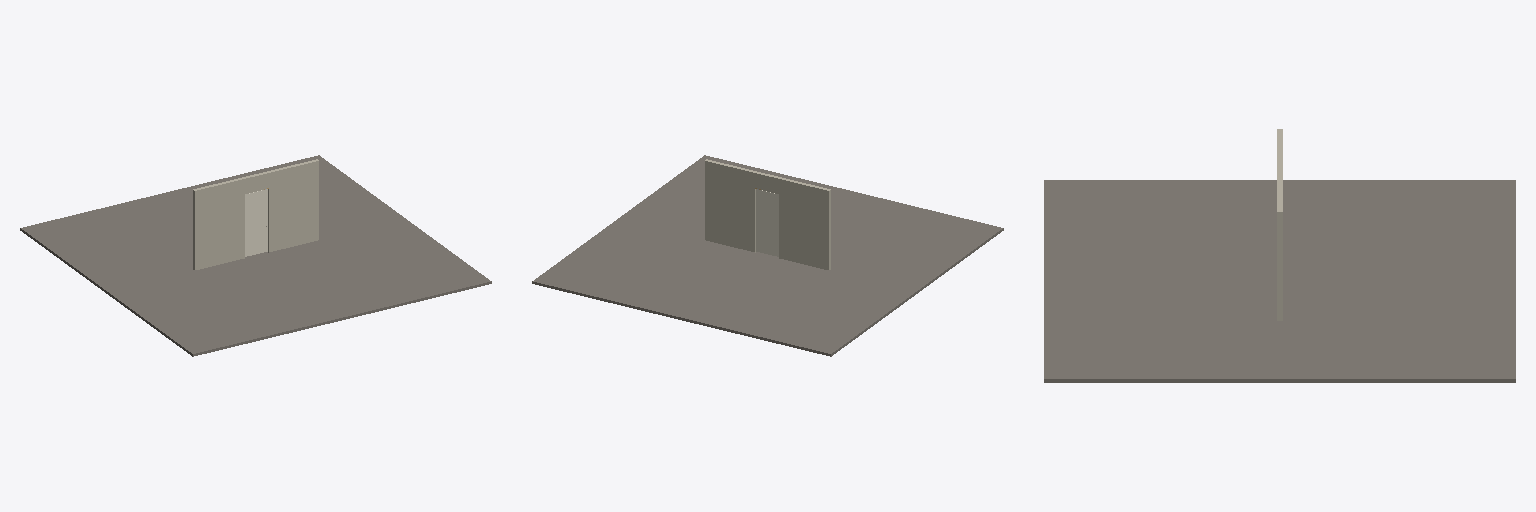
robot.urdf — db0137_bifold_simple:
<?xml version="1.0" ?>
<robot xmlns:doorbench="https://github.com/adamraudonis/DoorBench/schema/urdf-ext" name="db0137_bifold_simple">
  <link name="world_env">
    <visual name="floor_vis">
      <origin xyz="0 0 -0.05" rpy="0 0 0"/>
      <geometry>
        <box size="12 12 0.1"/>
      </geometry>
      <material name="mat_floor"/>
    </visual>
    <collision name="floor_col">
      <origin xyz="0 0 -0.05" rpy="0 0 0"/>
      <geometry>
        <box size="12 12 0.1"/>
      </geometry>
    </collision>
    <visual name="wall_left_vis">
      <origin xyz="-1.48225 0 1.5275" rpy="0 0 0"/>
      <geometry>
        <box size="2.0355 0.145 3.055"/>
      </geometry>
      <material name="mat_wall"/>
    </visual>
    <collision name="wall_left_col">
      <origin xyz="-1.48225 0 1.5275" rpy="0 0 0"/>
      <geometry>
        <box size="2.0355 0.145 3.055"/>
      </geometry>
    </collision>
    <visual name="wall_right_vis">
      <origin xyz="1.48225 0 1.5275" rpy="0 0 0"/>
      <geometry>
        <box size="2.0355 0.145 3.055"/>
      </geometry>
      <material name="mat_wall"/>
    </visual>
    <collision name="wall_right_col">
      <origin xyz="1.48225 0 1.5275" rpy="0 0 0"/>
      <geometry>
        <box size="2.0355 0.145 3.055"/>
      </geometry>
    </collision>
    <visual name="wall_header_vis">
      <origin xyz="0 0 2.755" rpy="0 0 0"/>
      <geometry>
        <box size="0.929 0.145 0.6"/>
      </geometry>
      <material name="mat_wall"/>
    </visual>
    <collision name="wall_header_col">
      <origin xyz="0 0 2.755" rpy="0 0 0"/>
      <geometry>
        <box size="0.929 0.145 0.6"/>
      </geometry>
    </collision>
    <visual name="jamb_hinge_vis">
      <origin xyz="-0.474 0 1.2275" rpy="0 0 0"/>
      <geometry>
        <box size="0.019 0.145 2.455"/>
      </geometry>
      <material name="mat_frame"/>
    </visual>
    <collision name="jamb_hinge_col">
      <origin xyz="-0.474 0 1.2275" rpy="0 0 0"/>
      <geometry>
        <box size="0.019 0.145 2.455"/>
      </geometry>
    </collision>
    <visual name="jamb_strike_vis">
      <origin xyz="0.474 0 1.2275" rpy="0 0 0"/>
      <geometry>
        <box size="0.019 0.145 2.455"/>
      </geometry>
      <material name="mat_frame"/>
    </visual>
    <collision name="jamb_strike_col">
      <origin xyz="0.474 0 1.2275" rpy="0 0 0"/>
      <geometry>
        <box size="0.019 0.145 2.455"/>
      </geometry>
    </collision>
    <visual name="stud_strike_vis">
      <origin xyz="0.4985 0 1.2275" rpy="0 0 0"/>
      <geometry>
        <box size="0.03 0.145 2.455"/>
      </geometry>
      <material name="mat_wall"/>
    </visual>
    <collision name="stud_strike_col">
      <origin xyz="0.4985 0 1.2275" rpy="0 0 0"/>
      <geometry>
        <box size="0.03 0.145 2.455"/>
      </geometry>
    </collision>
    <visual name="jamb_head_vis">
      <origin xyz="0.015 0 2.4645" rpy="0 0 0"/>
      <geometry>
        <box size="0.997 0.145 0.019"/>
      </geometry>
      <material name="mat_frame"/>
    </visual>
    <collision name="jamb_head_col">
      <origin xyz="0.015 0 2.4645" rpy="0 0 0"/>
      <geometry>
        <box size="0.997 0.145 0.019"/>
      </geometry>
    </collision>
    <visual name="head_stud_vis">
      <origin xyz="0.015 0 2.489" rpy="0 0 0"/>
      <geometry>
        <box size="0.997 0.145 0.03"/>
      </geometry>
      <material name="mat_wall"/>
    </visual>
    <collision name="head_stud_col">
      <origin xyz="0.015 0 2.489" rpy="0 0 0"/>
      <geometry>
        <box size="0.997 0.145 0.03"/>
      </geometry>
    </collision>
    <visual name="fold_track_vis">
      <origin xyz="0 0 2.44" rpy="0 0 0"/>
      <geometry>
        <box size="0.929 0.04 0.03"/>
      </geometry>
      <material name="mat_track"/>
    </visual>
  </link>
  <link name="panel_0_0">
    <inertial>
      <origin xyz="0.196628 0 1.22138" rpy="0 0 0"/>
      <mass value="28.262251"/>
      <inertia ixx="13.599948103" ixy="0" ixz="0.007671444" iyy="14.066880573" iyz="0" izz="0.472697085"/>
    </inertial>
    <visual name="panel_0_0_slab_vis">
      <origin xyz="0.196855 0 1.22" rpy="0 0 0"/>
      <geometry>
        <box size="0.446291 0.035 2.4"/>
      </geometry>
      <material name="mat_panel_0_0"/>
    </visual>
    <collision name="panel_0_0_slab_col">
      <origin xyz="0.196855 0 1.22" rpy="0 0 0"/>
      <geometry>
        <box size="0.446291 0.035 2.4"/>
      </geometry>
    </collision>
    <visual name="panel_0_0_pivot_pin_vis">
      <origin xyz="0 0 2.4205" rpy="0 0 0"/>
      <geometry>
        <cylinder radius="0.008" length="0.021"/>
      </geometry>
      <material name="mat_hinge"/>
    </visual>
  </link>
  <link name="panel_0_1">
    <inertial>
      <origin xyz="0.051172 -0.006216 1.196446" rpy="0 0 0"/>
      <mass value="29.549749"/>
      <inertia ixx="12.607546634" ixy="0.064340352" ixz="0.253921398" iyy="13.130106941" iyz="-0.032856223" izz="0.540172238"/>
    </inertial>
    <visual name="panel_0_1_slab_vis">
      <origin xyz="0.234 -0.0175 1.22" rpy="0 0 0"/>
      <geometry>
        <box size="0.464 0.035 2.4"/>
      </geometry>
      <material name="mat_panel_0_1"/>
    </visual>
    <collision name="panel_0_1_slab_col">
      <origin xyz="0.234 -0.0175 1.22" rpy="0 0 0"/>
      <geometry>
        <box size="0.464 0.035 2.4"/>
      </geometry>
    </collision>
    <visual name="panel_0_1_knuckle_vis">
      <origin xyz="0 0 1.22" rpy="0 0 0"/>
      <geometry>
        <cylinder radius="0.0045" length="2.38"/>
      </geometry>
      <material name="mat_hinge"/>
    </visual>
    <visual name="panel_0_1_knob_vis">
      <origin xyz="0.416 -0.035 1" rpy="1.570796 0 0"/>
      <geometry>
        <mesh filename="../../hardware/knob_13f7a2a65f.obj"/>
      </geometry>
      <material name="mat_op_nickel_satin"/>
    </visual>
    <visual name="panel_0_1_knob_col_vis">
      <origin xyz="0.416 -0.065 1" rpy="0 0 0"/>
      <geometry>
        <sphere radius="0.016"/>
      </geometry>
      <material name="mat_op_nickel_satin"/>
    </visual>
    <collision name="panel_0_1_knob_col_col">
      <origin xyz="0.416 -0.065 1" rpy="0 0 0"/>
      <geometry>
        <sphere radius="0.016"/>
      </geometry>
    </collision>
    <visual name="panel_0_1_knob_rose_vis">
      <origin xyz="0.416 -0.04 1" rpy="-1.570796 0 0"/>
      <geometry>
        <cylinder radius="0.022" length="0.01"/>
      </geometry>
      <material name="mat_op_nickel_satin"/>
    </visual>
  </link>
  <joint name="panel_0_0_hinge" type="revolute">
    <origin xyz="-0.4295 0 0" rpy="0 0 0"/>
    <parent link="world_env"/>
    <child link="panel_0_0"/>
    <axis xyz="0 0 -1"/>
    <limit lower="0" upper="1.48353" effort="2000" velocity="10"/>
    <dynamics damping="1.17812" friction="40.919828"/>
  </joint>
  <joint name="panel_0_1_hinge" type="revolute">
    <origin xyz="0.422 0.0175 0" rpy="0 0 0"/>
    <parent link="panel_0_0"/>
    <child link="panel_0_1"/>
    <axis xyz="0 0 -1"/>
    <limit lower="-3.141593" upper="0" effort="2000" velocity="10"/>
    <dynamics damping="0.2" friction="0.1"/>
    <mimic joint="panel_0_0_hinge" multiplier="-2" offset="0"/>
  </joint>
  <material name="mat_floor">
    <color rgba="0.55 0.53 0.5 1"/>
  </material>
  <material name="mat_frame">
    <color rgba="0.82 0.7 0.5 1"/>
  </material>
  <material name="mat_hinge">
    <color rgba="0.65 0.66 0.68 1"/>
  </material>
  <material name="mat_op_nickel_satin">
    <color rgba="0.72 0.7 0.66 1"/>
  </material>
  <material name="mat_panel_0_0">
    <color rgba="0.9 0.88 0.82 1"/>
  </material>
  <material name="mat_panel_0_1">
    <color rgba="0.9 0.88 0.82 1"/>
  </material>
  <material name="mat_track">
    <color rgba="0.8 0.81 0.83 1"/>
  </material>
  <material name="mat_wall">
    <color rgba="0.78 0.76 0.7 1"/>
  </material>
</robot>

--- Render facts (derived) ---
The picture shows the robot from 3 angles, left to right: view 1: azimuth 30°, elevation 25°; view 2: azimuth 150°, elevation 25°; view 3: azimuth 270°, elevation 25°; orthographic projection.
Robot: db0137_bifold_simple — 3 links, 2 joints (2 revolute); root link world_env; default pose: every joint at zero.
Visible links, largest first — view 1: world_env, panel_0_1, panel_0_0; view 2: world_env, panel_0_1, panel_0_0; view 3: world_env.
Link boxes in pixels (box(x1,y1,x2,y2)): world_env: box(20, 155, 491, 356); panel_0_1: box(256, 189, 267, 253); panel_0_0: box(245, 192, 255, 256); world_env: box(532, 155, 1003, 356); panel_0_1: box(756, 189, 767, 253); panel_0_0: box(768, 192, 778, 256); world_env: box(1044, 129, 1515, 382).
Bounding box of the posed robot: 12 × 12 × 3.15 m (x, y, z).
1 mesh visuals loaded from 1 distinct referenced files (1 OBJ).
